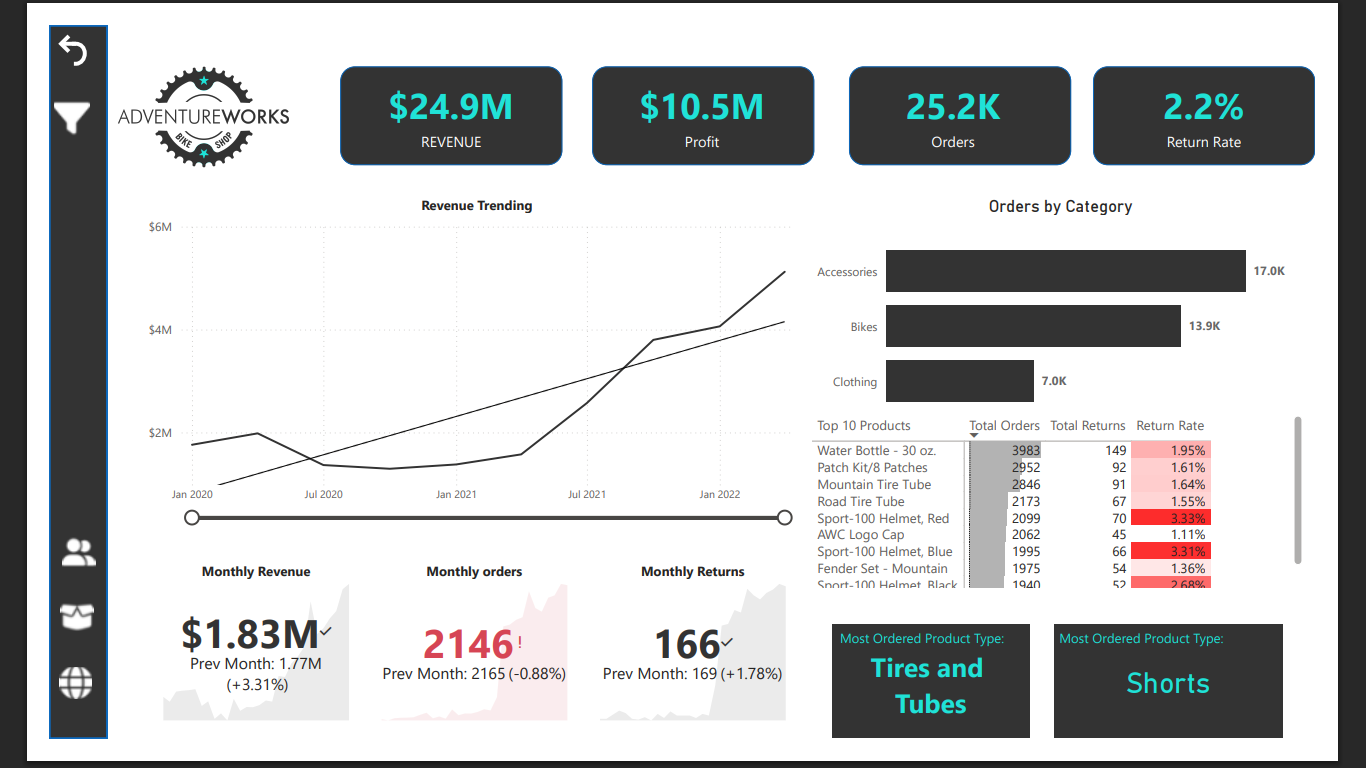

This screenshot's page, from the dashboard's own definition file:
{"tool":"powerbi","page":{"name":"Exec DashBoard","canvas":[1280,720],"ordinal":0},"visuals":[{"type":"image","title":"AVLogo","box":[17.3,38.9,276.5,106.6],"z":0},{"type":"card","fields":{"Values":["Measure Table.Total Revenue"]},"box":[299.6,40.3,213.1,100.8],"z":0,"group":"g2"},{"type":"group","id":"g1","title":"KPI Background","box":[294,41.6,986.7,100],"z":0,"group":"g3"},{"type":"shape","box":[294,41.6,225,100],"z":0,"group":"g1"},{"type":"shape","title":"Left Nav Bar","box":[0,0,57.6,720],"z":1000},{"type":"group","id":"g2","title":"KPI Values","box":[299.6,40.3,974.9,100.8],"z":1000,"group":"g3"},{"type":"card","fields":{"Values":["Measure Table.Return Rate"]},"box":[1061.4,40.3,213.1,100.8],"z":1000,"group":"g2"},{"type":"shape","box":[549,41.6,225,100],"z":1000,"group":"g1"},{"type":"group","id":"g3","title":"KPI","box":[294,40.3,986.7,101.3],"z":2000},{"type":"card","fields":{"Values":["Measure Table.Total Orders"]},"box":[807.4,40.3,213.1,100.8],"z":2000,"group":"g2"},{"type":"shape","box":[809,41.6,225,100],"z":2000,"group":"g1"},{"type":"card","fields":{"Values":["Measure Table.Total Profit"]},"box":[553.5,40.3,213.1,100.8],"z":3000,"group":"g2"},{"type":"shape","box":[1055.7,41.6,225,100],"z":3000,"group":"g1"},{"type":"lineChart","title":"Revenue Trending","fields":{"Y":["Measure Table.Total Revenue"],"Category":["Calendar Lookup.Year","Calendar Lookup.Start of Quarter","Calendar Lookup.Start of Month"]},"box":[95,171.7,675,336.7],"z":3000},{"type":"kpi","title":"Monthly Revenue","fields":{"Indicator":["Measure Table.Total Revenue"],"TrendLine":["Calendar Lookup.Start of Month"],"Goal":["Measure Table.Previous Month revenue"]},"box":[110,541.7,198.3,165],"z":4000},{"type":"kpi","title":"Monthly orders","fields":{"TrendLine":["Calendar Lookup.Start of Month"],"Indicator":["Measure Table.Total Orders"],"Goal":["Measure Table.Previous Month Orders"]},"box":[330.8,541.7,198.3,165],"z":5000},{"type":"kpi","title":"Monthly Returns","fields":{"TrendLine":["Calendar Lookup.Start of Month"],"Indicator":["Measure Table.Total Returns"],"Goal":["Measure Table.Previous Month Returns"]},"box":[551.7,541.7,198.3,165],"z":6000},{"type":"clusteredBarChart","title":"Orders by Category","fields":{"Category":["Product Categories Lookup.CategoryName"],"Y":["Measure Table.Total Orders"]},"box":[766.7,171.7,513.3,238.3],"z":7000},{"type":"pivotTable","fields":{"Values":["Measure Table.Total Orders","Measure Table.Total Returns","Measure Table.Return Rate"],"Rows":["Product Lookup.ProductName"]},"box":[767.1,388.6,505.7,184.3],"z":8000},{"type":"card","fields":{"Values":["Min(Product Subcategories Lookup.SubcategoryName)"]},"box":[792,604.8,200.2,115.2],"z":9000},{"type":"textbox","box":[794.9,604.8,197.3,28.8],"z":10000},{"type":"card","fields":{"Values":["Min(Product Subcategories Lookup.SubcategoryName)"]},"box":[1016.6,604.8,231.8,115.2],"z":11000},{"type":"textbox","box":[1016.6,604.8,197.3,28.8],"z":12000},{"type":"actionButton","box":[2.9,4.3,54.7,40.3],"z":13000},{"type":"actionButton","box":[8.6,511.2,44.6,40.3],"z":14000},{"type":"actionButton","box":[7.2,577.4,44.6,40.3],"z":15000},{"type":"actionButton","box":[5.8,643.7,44.6,40.3],"z":16000},{"type":"actionButton","box":[0,70.6,57.6,44.6],"z":18001}]}

Visuals, with their boxes on the page's 1280x720 design canvas (x1, y1, x2, y2). These are canvas units, not pixel positions in the 1366x768 screenshot, which may show the page scaled, cropped or inside an application window:
"AVLogo" image: x1=17 y1=39 x2=294 y2=146
card - Measure Table.Total Revenue: x1=300 y1=40 x2=513 y2=141
"KPI Background" group: x1=294 y1=42 x2=1281 y2=142
shape: x1=294 y1=42 x2=519 y2=142
"Left Nav Bar" shape: x1=0 y1=0 x2=58 y2=720
"KPI Values" group: x1=300 y1=40 x2=1274 y2=141
card - Measure Table.Return Rate: x1=1061 y1=40 x2=1274 y2=141
shape: x1=549 y1=42 x2=774 y2=142
"KPI" group: x1=294 y1=40 x2=1281 y2=142
card - Measure Table.Total Orders: x1=807 y1=40 x2=1020 y2=141
shape: x1=809 y1=42 x2=1034 y2=142
card - Measure Table.Total Profit: x1=554 y1=40 x2=767 y2=141
shape: x1=1056 y1=42 x2=1281 y2=142
"Revenue Trending" lineChart: x1=95 y1=172 x2=770 y2=508
"Monthly Revenue" kpi: x1=110 y1=542 x2=308 y2=707
"Monthly orders" kpi: x1=331 y1=542 x2=529 y2=707
"Monthly Returns" kpi: x1=552 y1=542 x2=750 y2=707
"Orders by Category" clusteredBarChart: x1=767 y1=172 x2=1280 y2=410
pivotTable - Measure Table.Total Orders x Measure Table.Total Returns: x1=767 y1=389 x2=1273 y2=573
card - Min(Product Subcategories Lookup.SubcategoryName): x1=792 y1=605 x2=992 y2=720
textbox: x1=795 y1=605 x2=992 y2=634
card - Min(Product Subcategories Lookup.SubcategoryName): x1=1017 y1=605 x2=1248 y2=720
textbox: x1=1017 y1=605 x2=1214 y2=634
actionButton: x1=3 y1=4 x2=58 y2=45
actionButton: x1=9 y1=511 x2=53 y2=552
actionButton: x1=7 y1=577 x2=52 y2=618
actionButton: x1=6 y1=644 x2=50 y2=684
actionButton: x1=0 y1=71 x2=58 y2=115
